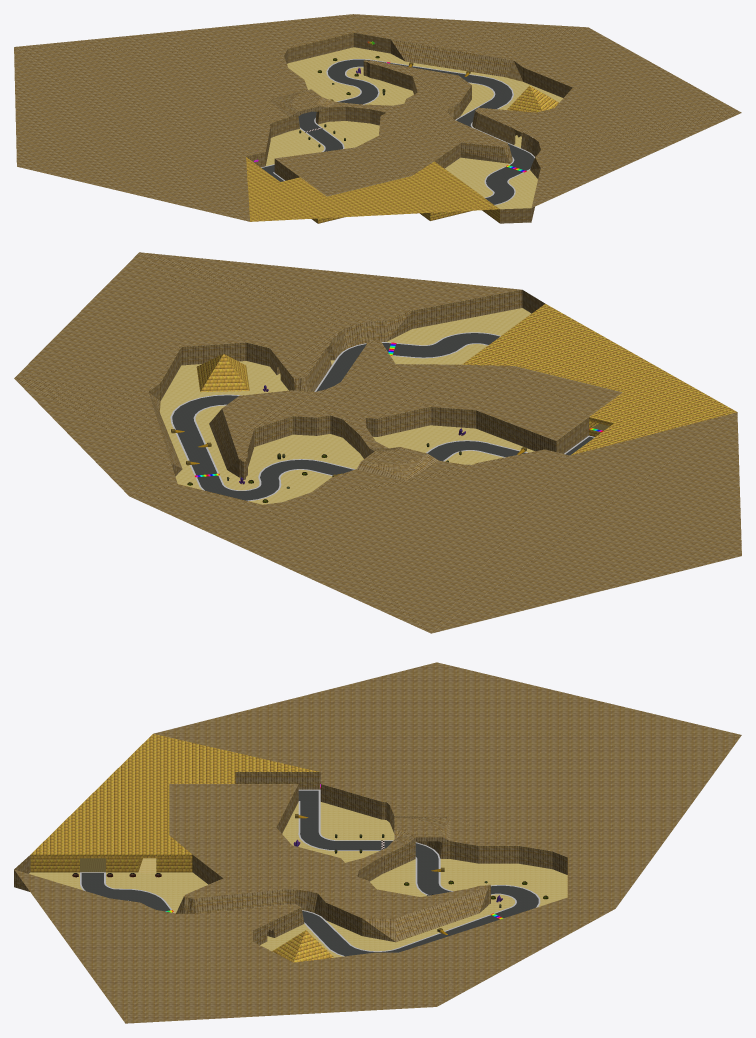
The picture shows the model from 3 angles, top to bottom: view 1: azimuth 30°, elevation 25°; view 2: azimuth 150°, elevation 25°; view 3: azimuth 270°, elevation 25°; orthographic projection. The views are drawn at different scales.
Visible parts, largest first — view 1: DesertRaceway-SKP--mat7, DesertRaceway-SKP--mat9, DesertRaceway-SKP--mat18, DesertRaceway-SKP--mat15, DesertRaceway-SKP--mat16; view 2: DesertRaceway-SKP--mat7, DesertRaceway-SKP--mat9, DesertRaceway-SKP--mat18, DesertRaceway-SKP--mat15, DesertRaceway-SKP--mat16; view 3: DesertRaceway-SKP--mat7, DesertRaceway-SKP--mat9, DesertRaceway-SKP--mat18, DesertRaceway-SKP--mat15, DesertRaceway-SKP--mat16.
Boxes of the visible parts, x1,y1,x2,y2 form: DesertRaceway-SKP--mat7: (14,14,741,223); DesertRaceway-SKP--mat9: (246,85,558,223); DesertRaceway-SKP--mat18: (266,47,562,209); DesertRaceway-SKP--mat15: (262,59,534,204); DesertRaceway-SKP--mat16: (261,59,534,205); DesertRaceway-SKP--mat7: (14,252,741,633); DesertRaceway-SKP--mat9: (196,303,736,455); DesertRaceway-SKP--mat18: (160,308,534,504); DesertRaceway-SKP--mat15: (172,333,593,500); DesertRaceway-SKP--mat16: (170,332,594,501); DesertRaceway-SKP--mat7: (14,662,741,1023); DesertRaceway-SKP--mat9: (30,734,333,962); DesertRaceway-SKP--mat18: (29,802,567,957); DesertRaceway-SKP--mat15: (81,790,538,956); DesertRaceway-SKP--mat16: (80,789,540,956).
Size of the model in its own units: 151094 by 5386 by 128670.
Materials: 17 (17 with a texture image).
